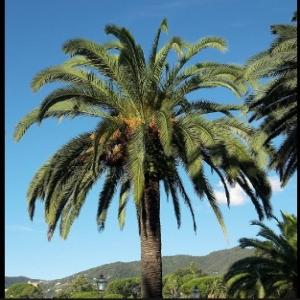palm tree: (13, 17, 274, 298)
